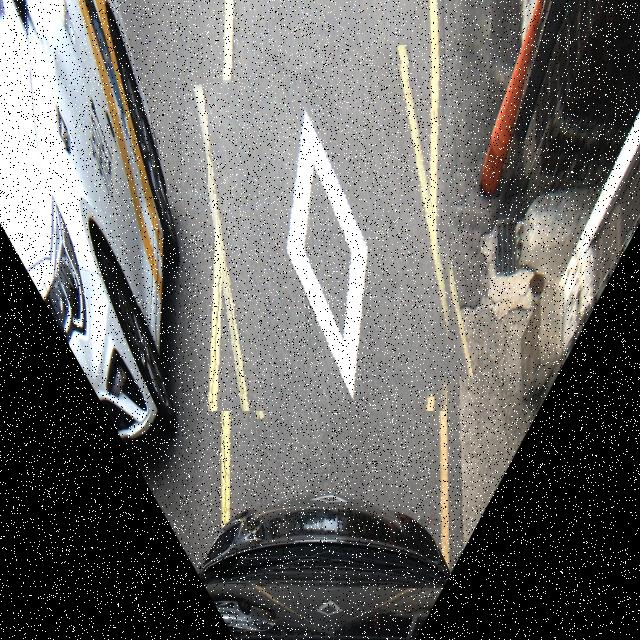diamond: (208, 53, 458, 411)
